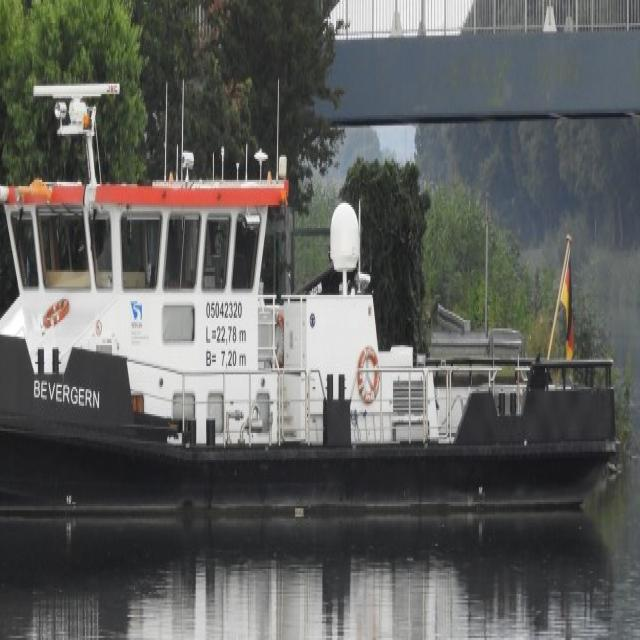tugboat: (1, 78, 626, 543)
